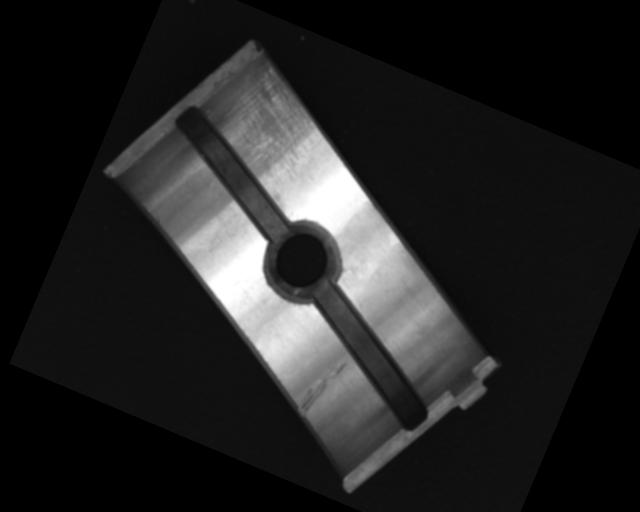gap: (282, 278, 459, 434), (145, 101, 318, 245)
hole: (255, 210, 349, 309)
nick: (292, 350, 349, 426)
scratch: (205, 58, 338, 192)
